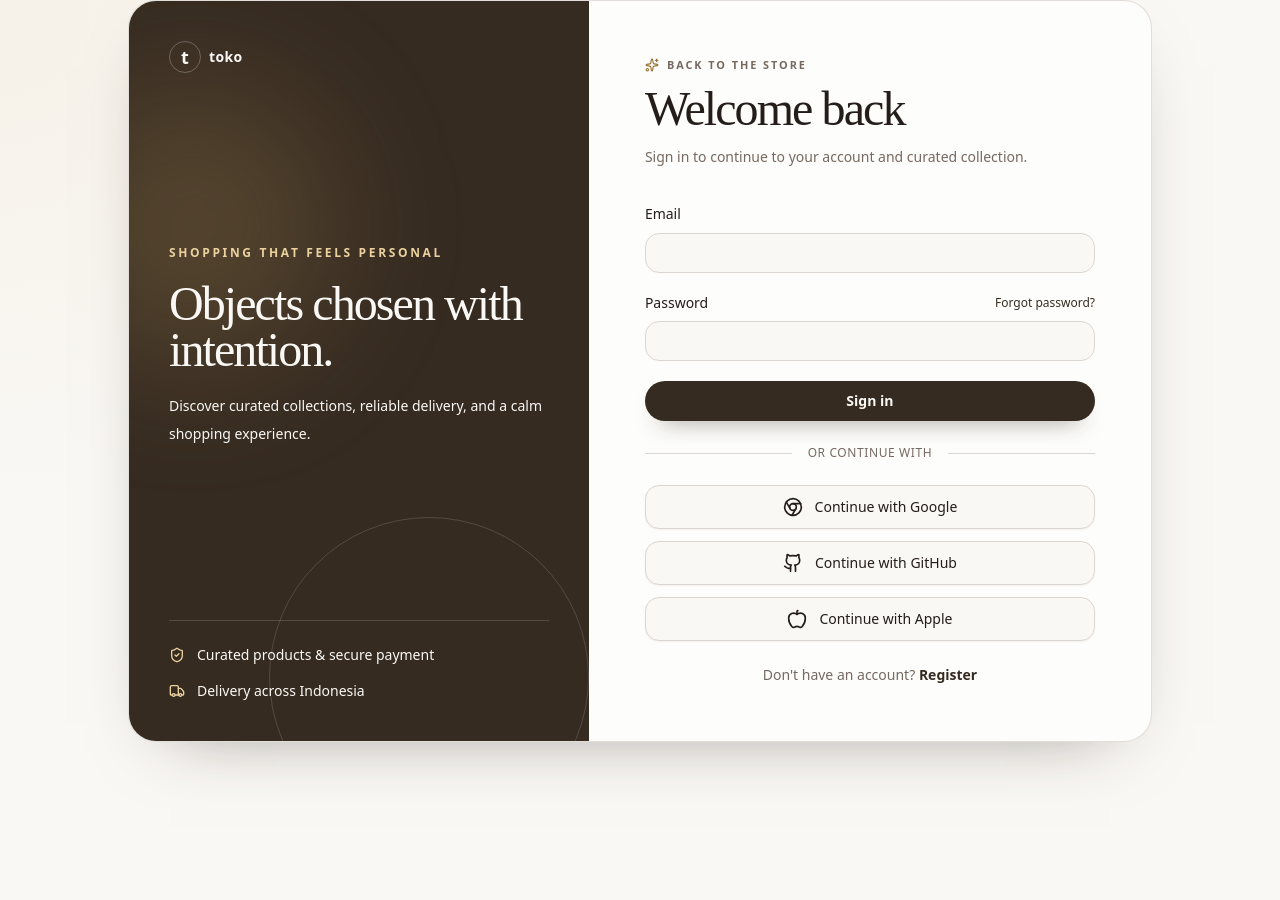
it: auth pages in English › translates schema errors on the login form
What coordinates should you click on to do the following:
click the button with test id "login-submit"
I would click on:
 (870, 401)
Its box is [645, 381, 1095, 421].
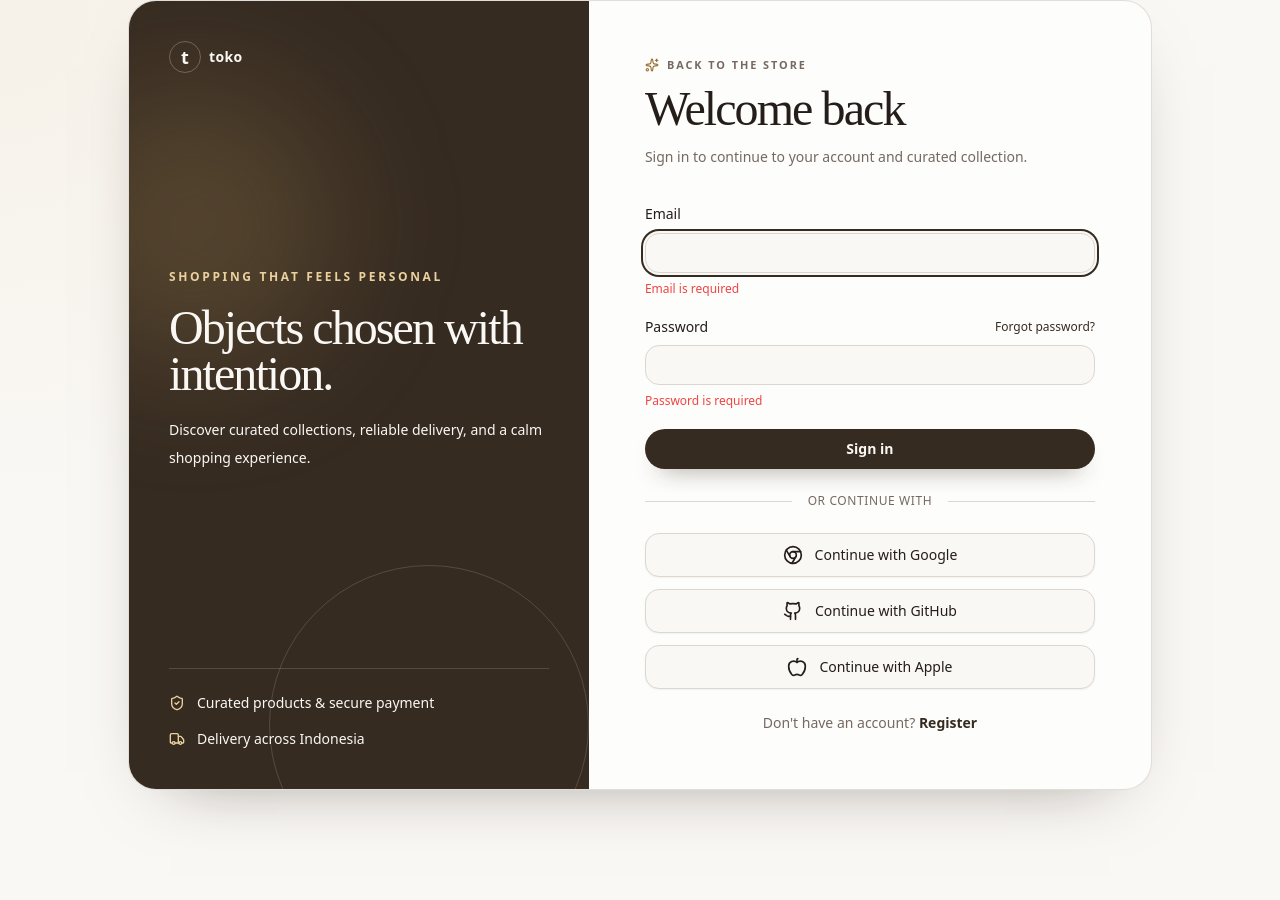
Now the text "Email is required" is shown, box [645, 280, 739, 297]
Now the text "Password is required" is shown, box [645, 392, 762, 409]
